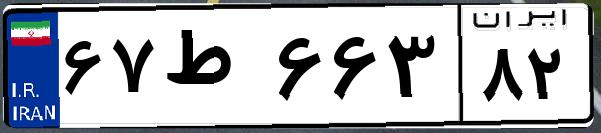2: (525, 38, 570, 115)
3: (385, 28, 445, 110)
6: (270, 28, 330, 110), (330, 28, 385, 110), (57, 26, 110, 100)
7: (110, 28, 158, 98)
8: (475, 38, 525, 113)
ط: (158, 20, 270, 120)
